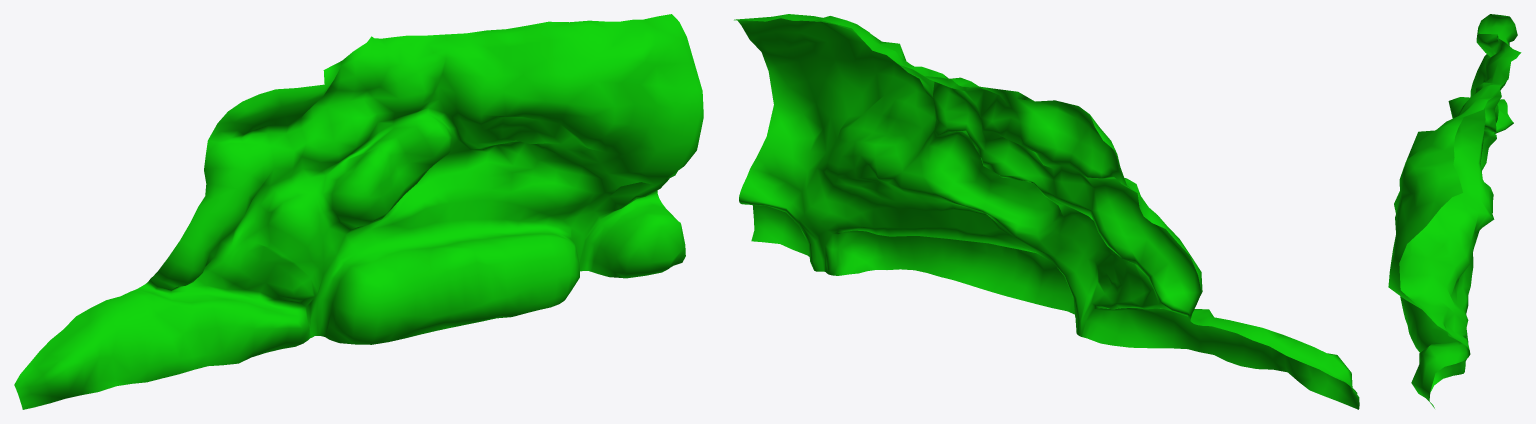
The model's file is Lowpoly_Cliff.FBX.
The picture shows the model from 3 angles, left to right: view 1: azimuth 30°, elevation 25°; view 2: azimuth 150°, elevation 25°; view 3: azimuth 270°, elevation 25°; orthographic projection. The views are drawn at different scales.
Parts seen in each view (by area): view 1: Lowpoly_Cliff; view 2: Lowpoly_Cliff; view 3: Lowpoly_Cliff.
Part boxes in pixels (x1,y1,x2,y2): Lowpoly_Cliff: [14, 14, 703, 409]; Lowpoly_Cliff: [734, 14, 1359, 409]; Lowpoly_Cliff: [1388, 14, 1521, 408].
Size of the model in its own units: 446 by 171 by 85.12.
